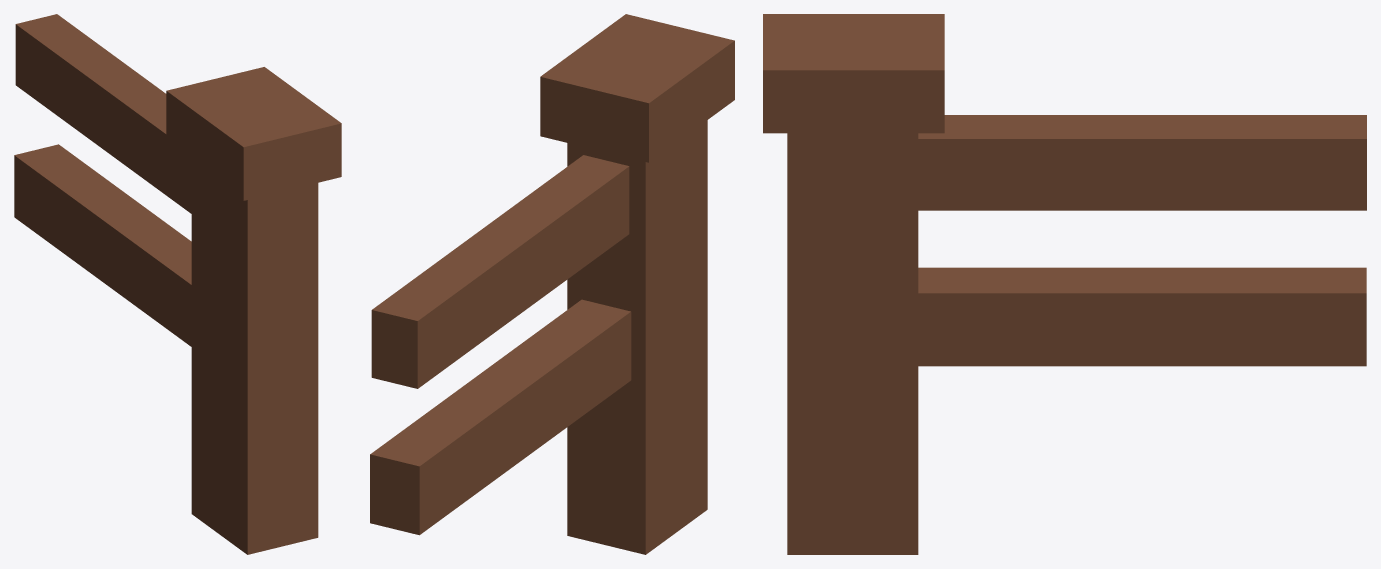
Rendered from Fence01_Continuous.fbx.
3 views of the same model, side by side, from view 1: azimuth 30°, elevation 25°; view 2: azimuth 150°, elevation 25°; view 3: azimuth 270°, elevation 25° (orthographic). The views are drawn at different scales.
Visible parts, largest first — view 1: Cube; view 2: Cube; view 3: Cube.
Part boxes in pixels (x1=…): Cube: x1=14, y1=14, x2=341, y2=554; Cube: x1=370, y1=14, x2=734, y2=554; Cube: x1=763, y1=14, x2=1366, y2=554.
Bounding box in the file's own units: 203 × 829 × 922.
